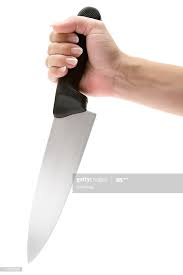knife: (19, 5, 106, 269)
